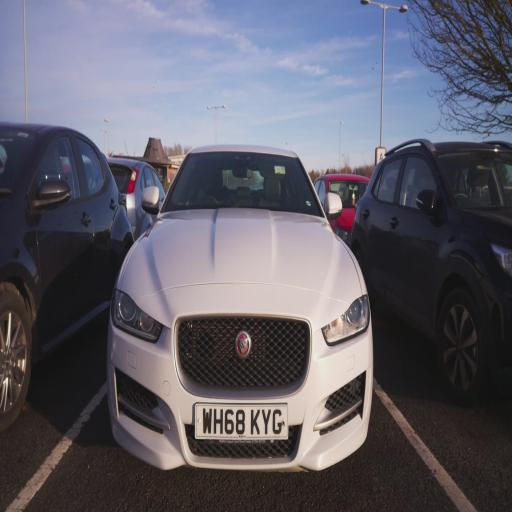numberplates: (195, 404, 287, 439)
